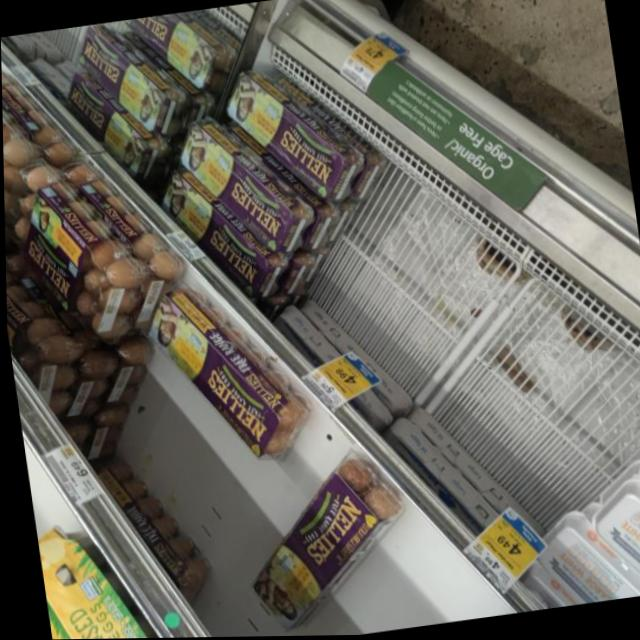Eggs: (1, 83, 163, 358), (134, 263, 303, 476), (230, 447, 416, 637), (159, 98, 324, 281), (218, 63, 367, 220)
